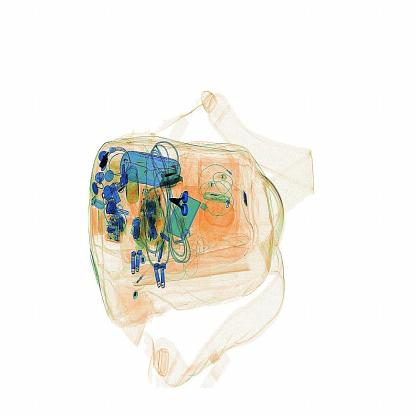gun: (168, 181, 197, 222)
